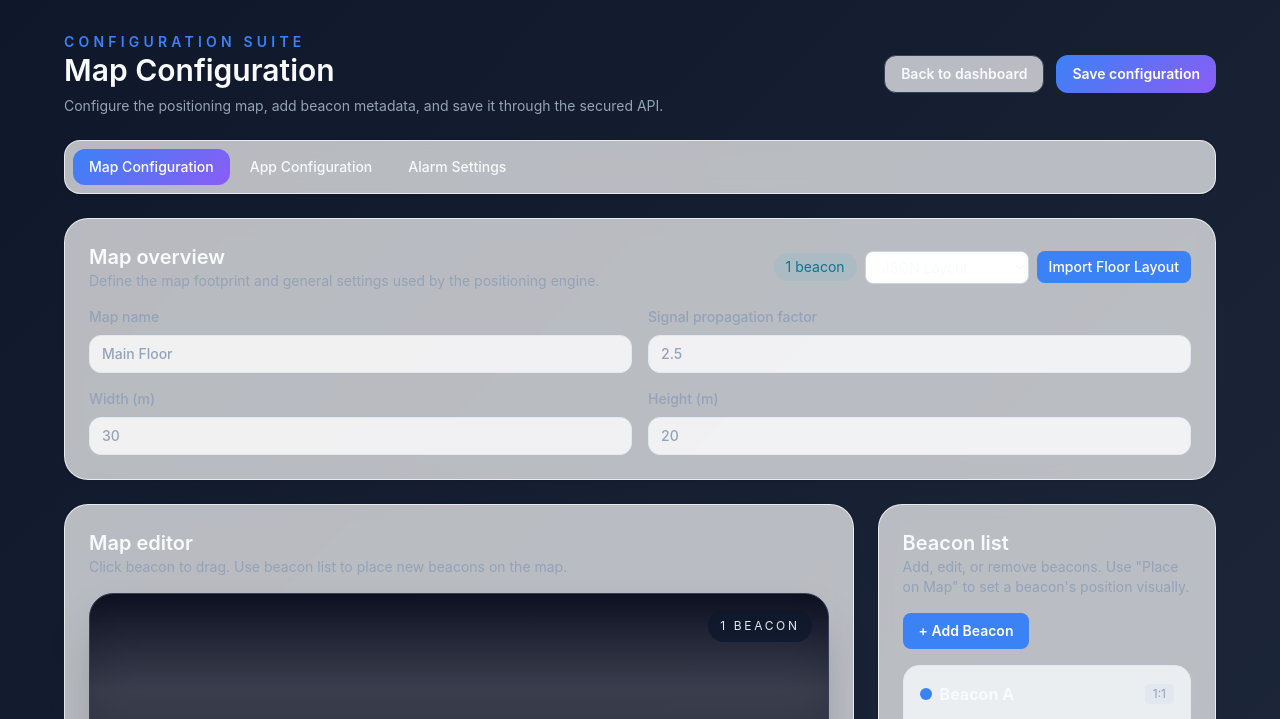
Test: ConfigurationPage - App Configuration Tab › shows Authentication card when Authentication section is selected
Click the tab "App Configuration": (311,167) top-left (234, 149), bottom-right (388, 185)
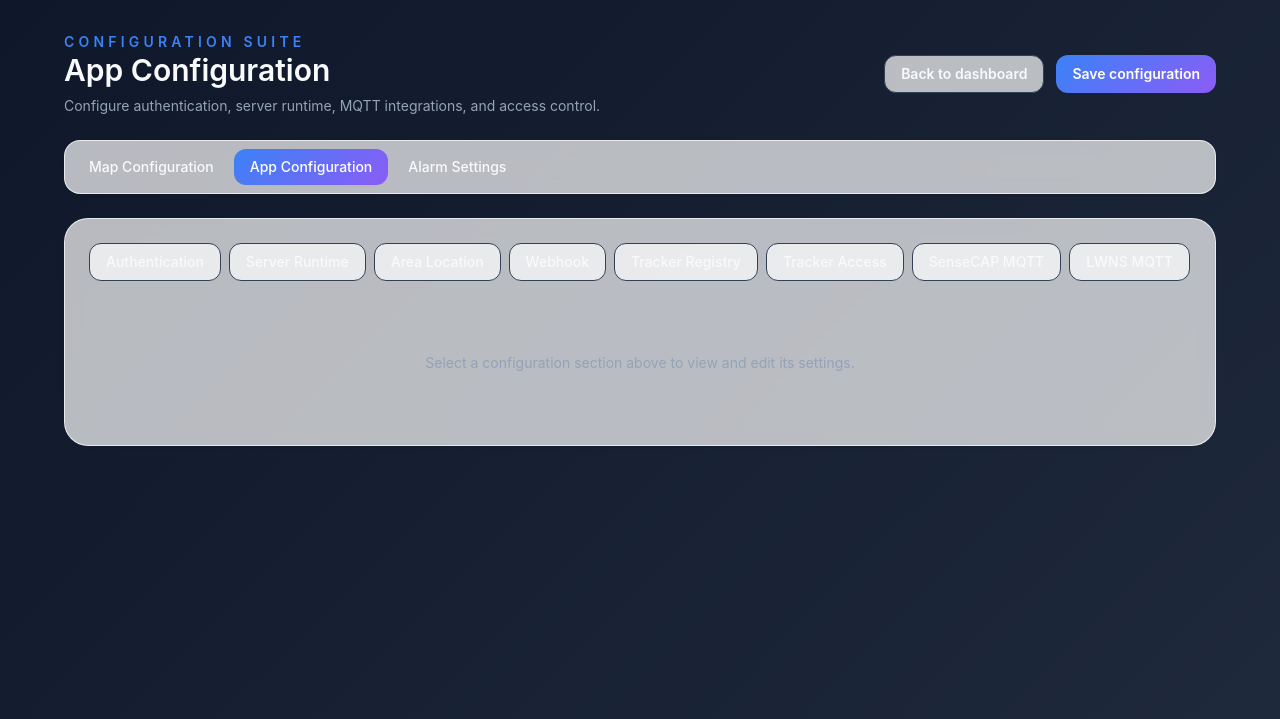
Expected: the button "Authentication" is shown
Click the button "Authentication": (155,262) top-left (89, 243), bottom-right (221, 281)
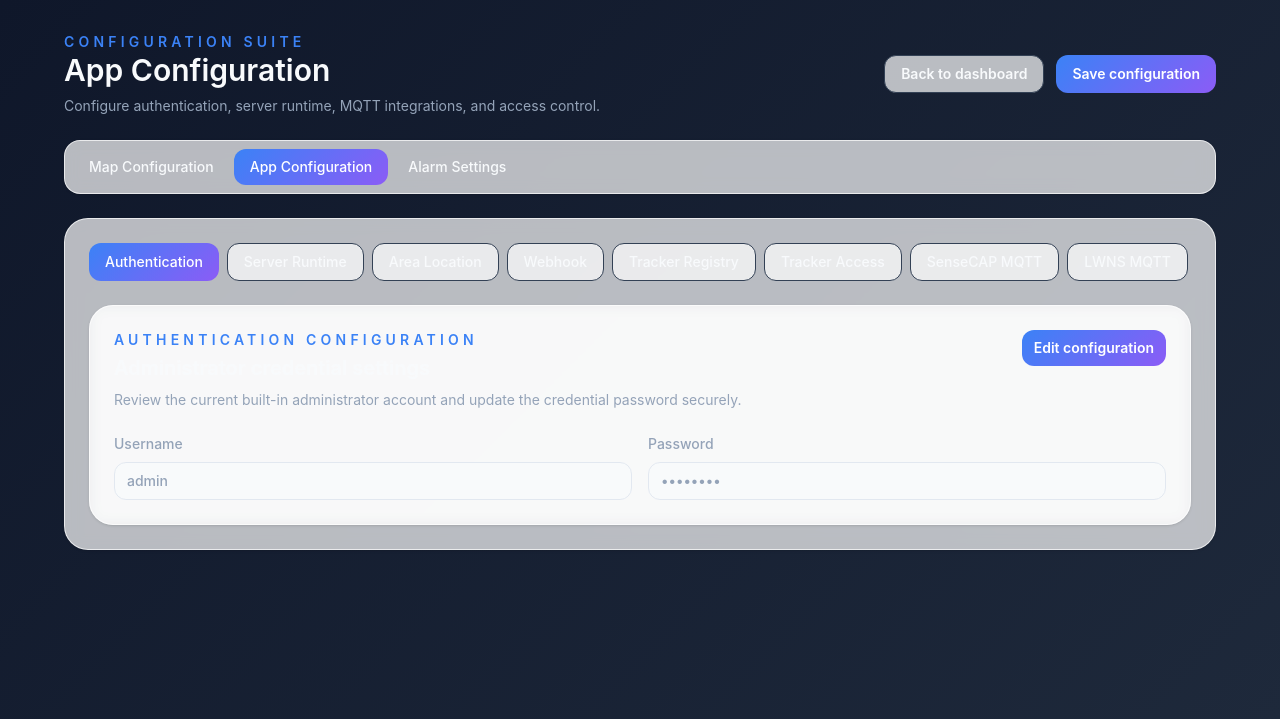
Expected: the text "Username" is shown, top-left (114, 434), bottom-right (632, 500)
Expected: the text "Password" is shown, top-left (648, 434), bottom-right (1166, 500)
